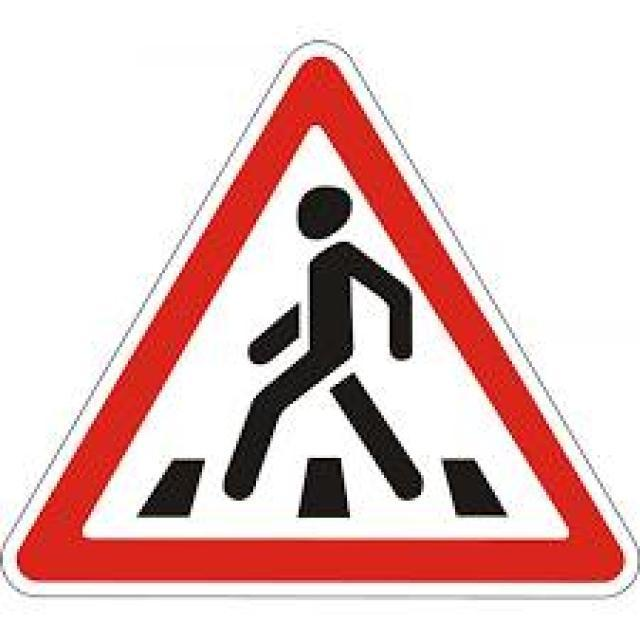pedestrian crossing: (20, 50, 626, 589)
